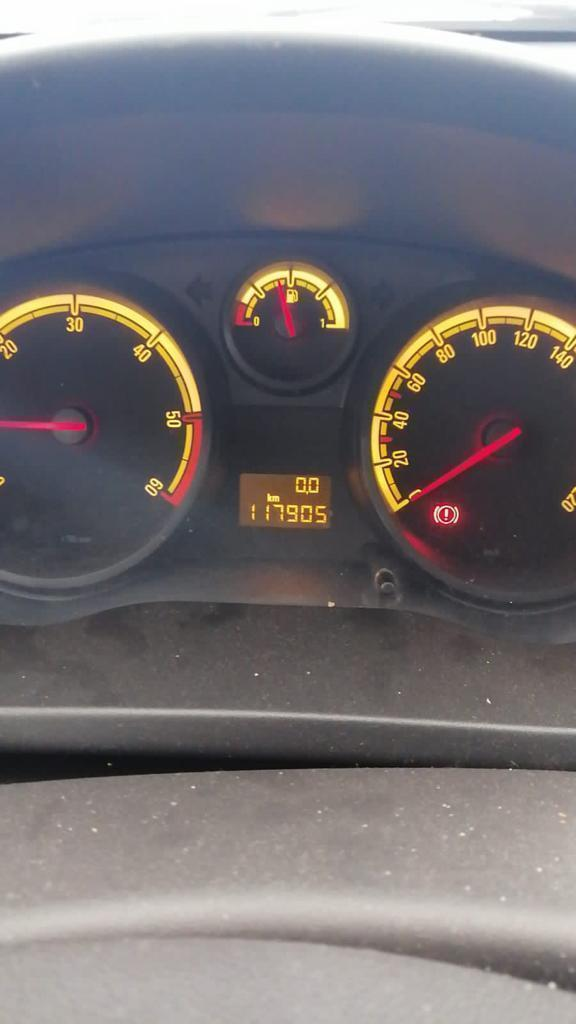,: (305, 490, 308, 495)
0: (300, 504, 313, 523), (308, 476, 320, 494), (294, 475, 306, 493)
1: (250, 502, 257, 521), (264, 503, 271, 522)
5: (314, 504, 327, 524)
7: (272, 503, 284, 521)
9: (286, 503, 298, 523)
X: (271, 494, 280, 502), (266, 492, 271, 502)
odometer: (234, 471, 336, 533)
